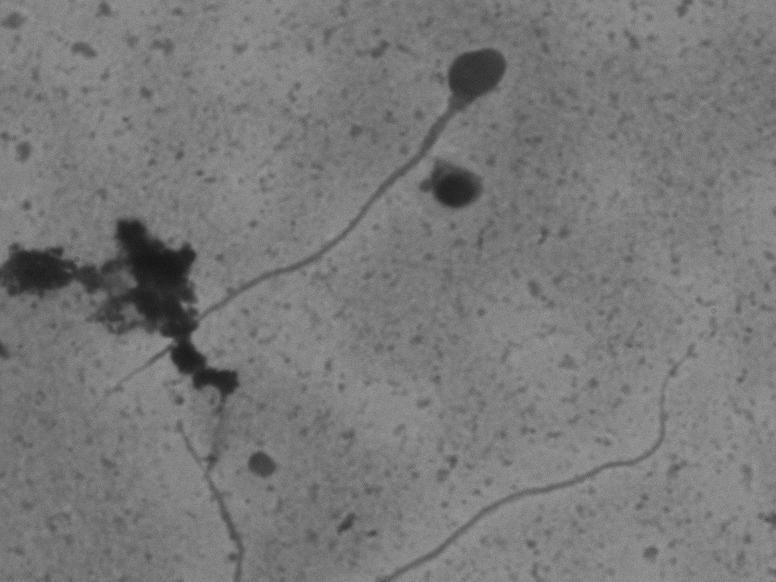Abnormal: (97, 34, 516, 399)
